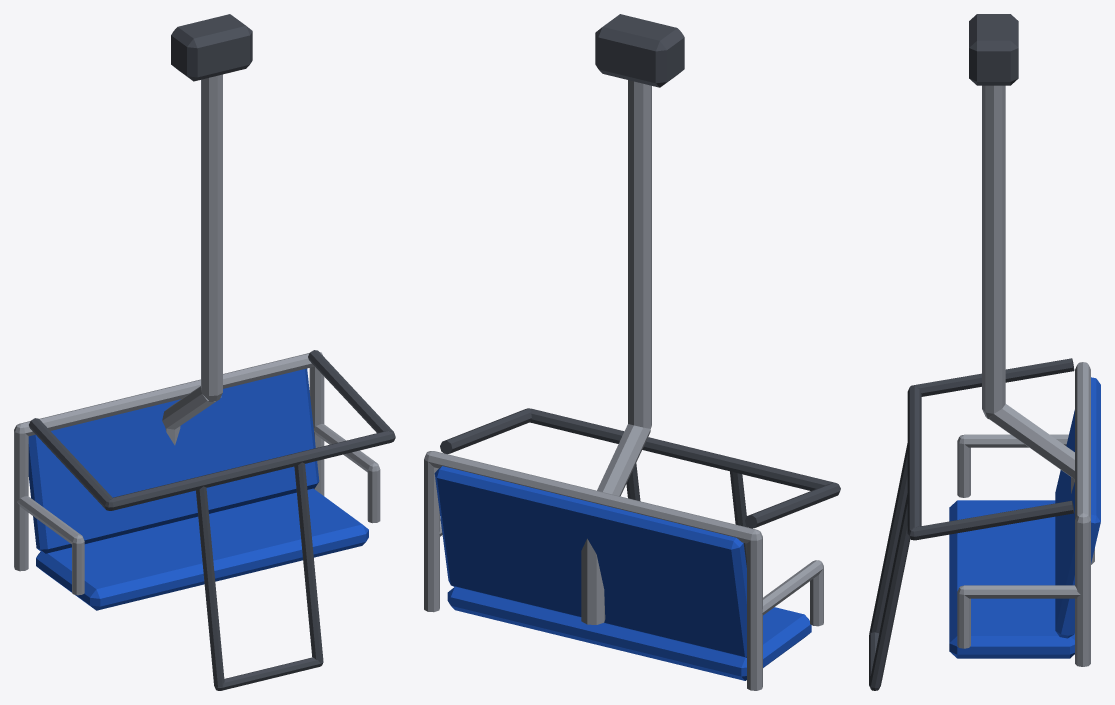
The model's file is lift_chair.obj.
3 renders of one model, left to right at view 1: azimuth 30°, elevation 25°; view 2: azimuth 150°, elevation 25°; view 3: azimuth 270°, elevation 25°, orthographic. The views are drawn at different scales.
Visible parts, largest first — view 1: lift_chair_Chair, lift_chair_SafetyBar; view 2: lift_chair_Chair, lift_chair_SafetyBar; view 3: lift_chair_Chair, lift_chair_SafetyBar.
Part boxes in pixels (x1,y1,x2,y2): lift_chair_Chair: [14, 14, 380, 610]; lift_chair_SafetyBar: [29, 350, 395, 690]; lift_chair_Chair: [424, 14, 823, 690]; lift_chair_SafetyBar: [440, 408, 840, 567]; lift_chair_Chair: [949, 14, 1100, 666]; lift_chair_SafetyBar: [869, 358, 1074, 690].
Bounding box in the file's own units: 3.76 × 7.11 × 2.34.
1 material, 1 textured.
